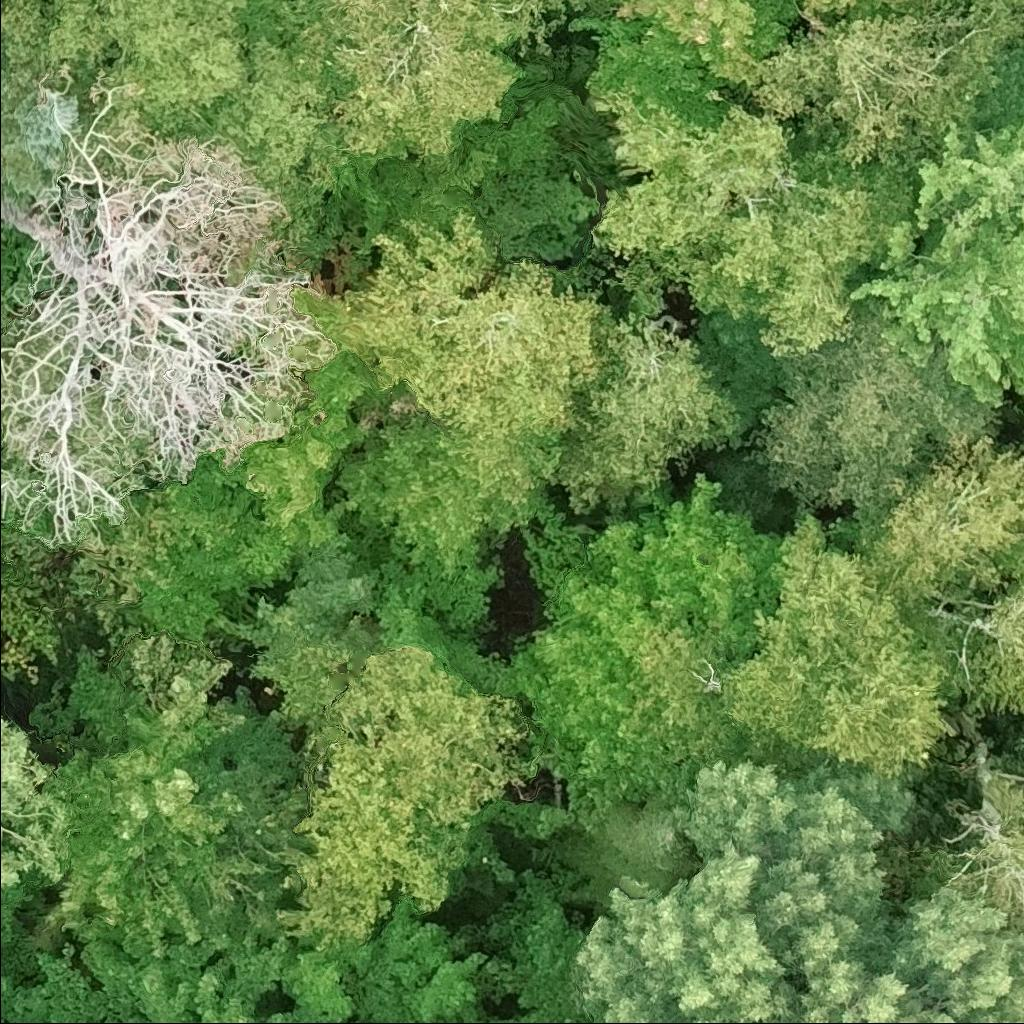crown: (0, 84, 338, 545), (570, 759, 1023, 1023), (585, 84, 916, 362), (273, 637, 548, 952), (323, 205, 626, 476), (42, 631, 271, 959), (711, 512, 959, 785), (736, 0, 1023, 190), (844, 107, 1023, 408), (747, 319, 999, 516), (298, 0, 565, 161), (554, 472, 783, 652), (553, 320, 754, 522), (508, 614, 700, 824), (341, 415, 565, 579), (834, 429, 1023, 611), (207, 12, 351, 224), (235, 351, 379, 545), (598, 0, 797, 99), (617, 613, 741, 767), (551, 796, 697, 909), (572, 18, 736, 118), (0, 41, 99, 197), (0, 716, 76, 889), (957, 568, 1023, 715), (793, 0, 931, 39), (0, 887, 26, 953), (0, 968, 10, 997), (0, 428, 3, 442)
